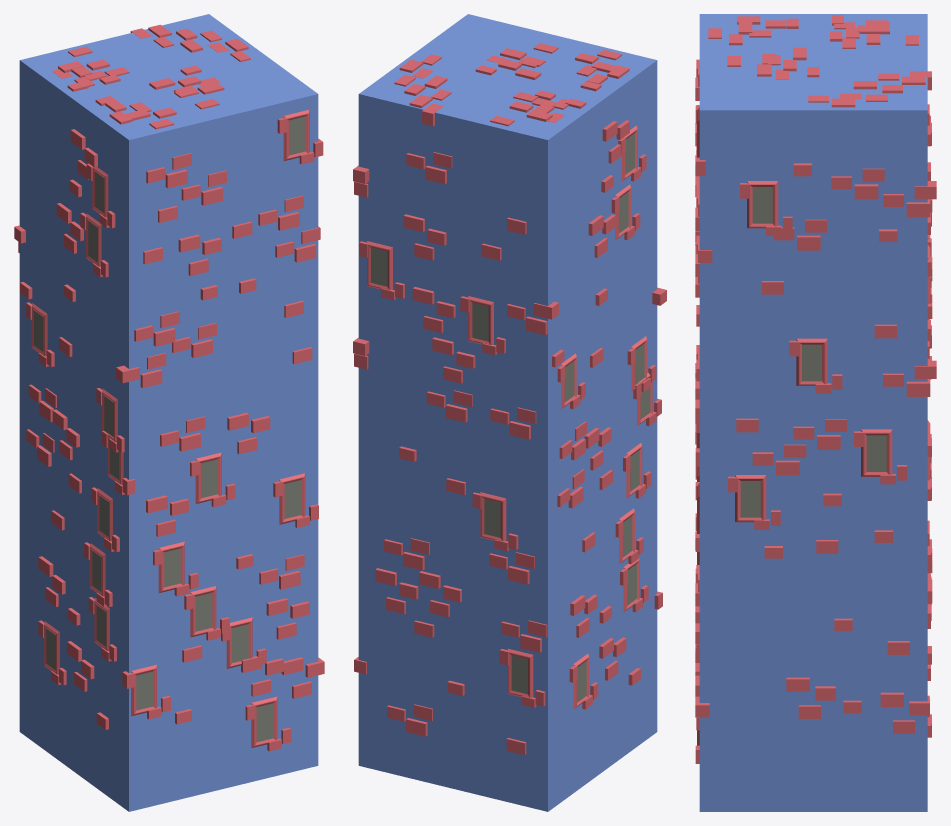
The model's file is Tower Jumper Building Concept v1.3.fbx.
3 views of the same model, side by side, from view 1: azimuth 30°, elevation 25°; view 2: azimuth 150°, elevation 25°; view 3: azimuth 270°, elevation 25° (orthographic). The views are drawn at different scales.
Visible parts, largest first — view 1: Cube.019; view 2: Cube.019; view 3: Cube.019.
Boxes of the visible parts, x1=… form: Cube.019: x1=14, y1=14, x2=324, y2=811; Cube.019: x1=353, y1=14, x2=666, y2=811; Cube.019: x1=695, y1=14, x2=936, y2=811.
Size of the model in its own units: 1065 by 3404 by 1059.
